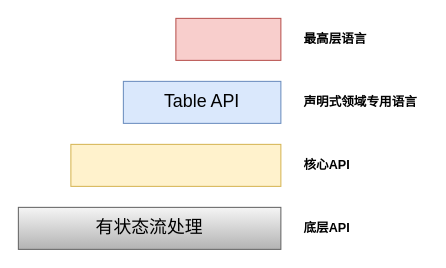
The diagram is 446 pixels wide and 268 high, and some of its shapes have lost their labels. Each missing label, with the centre of its shape:
"DataStream/DataSet API" goes at (175,164).
"SQL" goes at (228,38).
